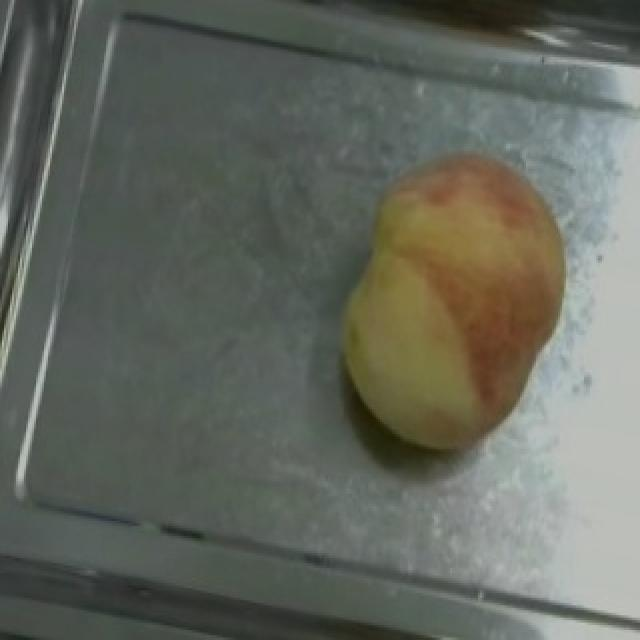Fruit: (298, 188, 586, 484)
